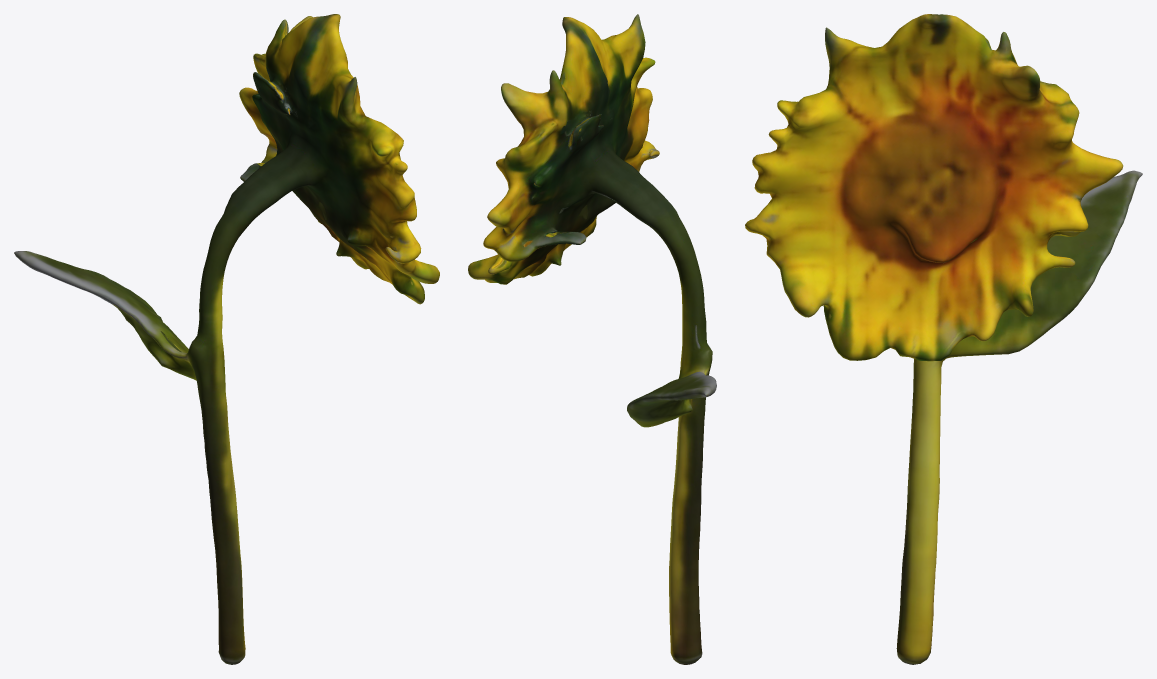
3 views of the same model, side by side, from view 1: azimuth 30°, elevation 25°; view 2: azimuth 150°, elevation 25°; view 3: azimuth 270°, elevation 25° (orthographic). The views are drawn at different scales.
Parts seen in each view (by area): view 1: mesh; view 2: mesh; view 3: mesh.
Part boxes in pixels (x1,y1,x2,y2): mesh: (14, 14, 439, 664); mesh: (468, 14, 716, 664); mesh: (745, 14, 1142, 664).
Size of the model in its own units: 0.4963 by 0.998 by 0.5063.
Materials: 1 (1 with a texture image).
